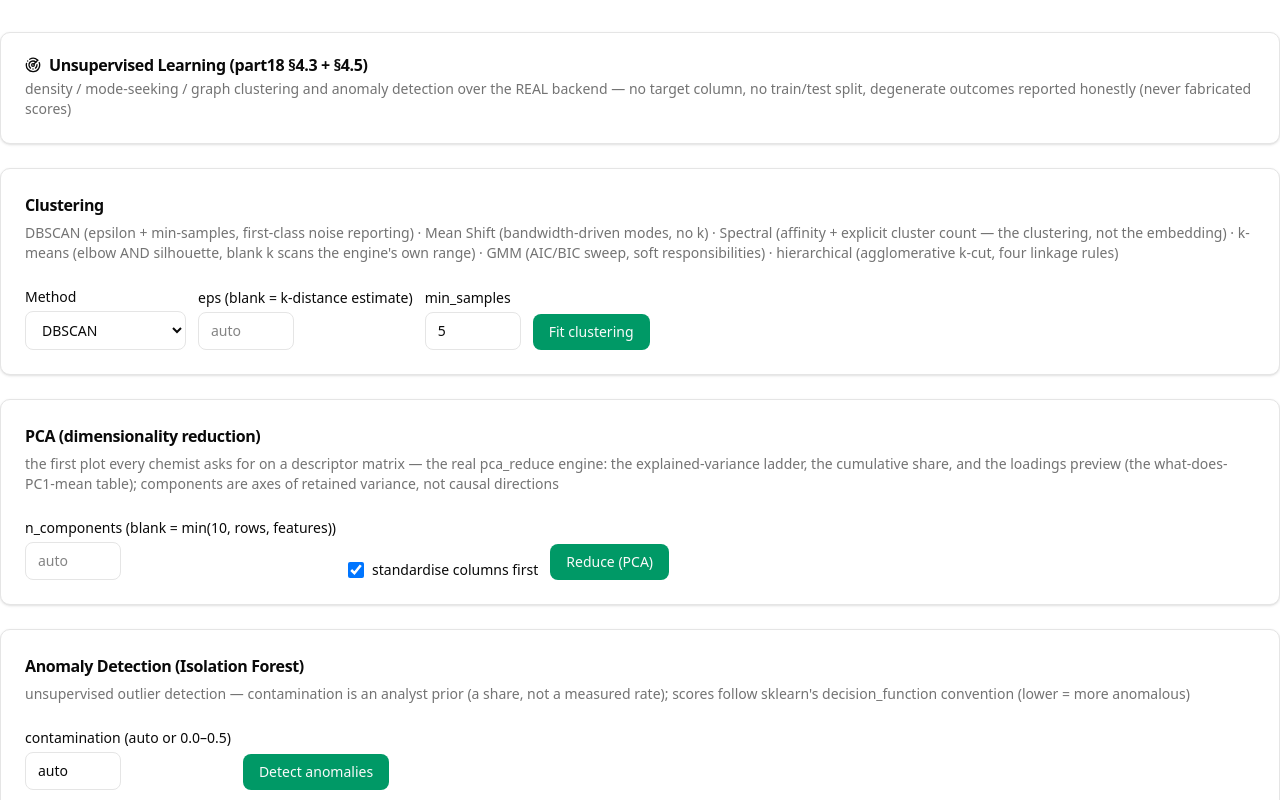
the ML-4 unsupervised families (kmeans / gmm / hierarchical + the pca sibling) › POSTs hierarchical with the linkage select and renders the merge-height line
Select "Hierarchical" in the dropdown named "the clustering method" at (106, 330), box [25, 311, 186, 350]
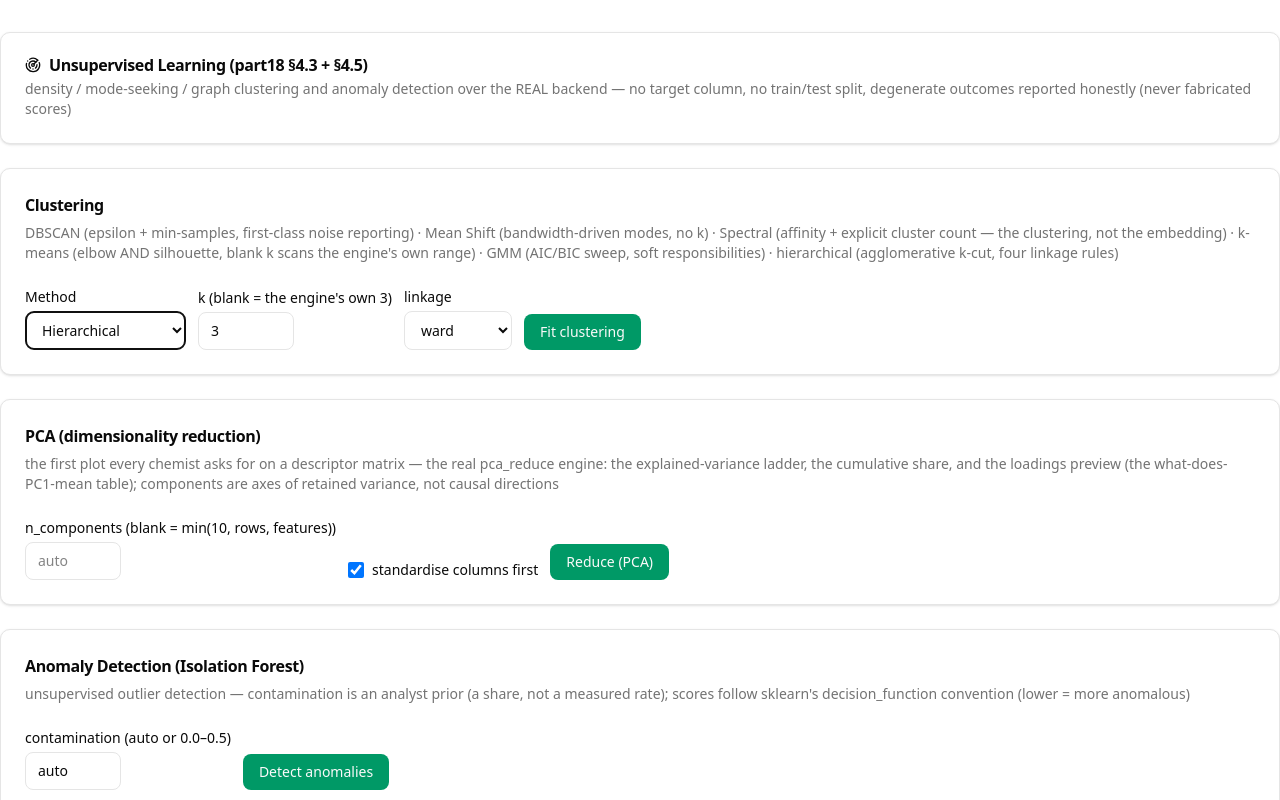
Click the button "Fit clustering" at (582, 332), box [524, 314, 641, 350]
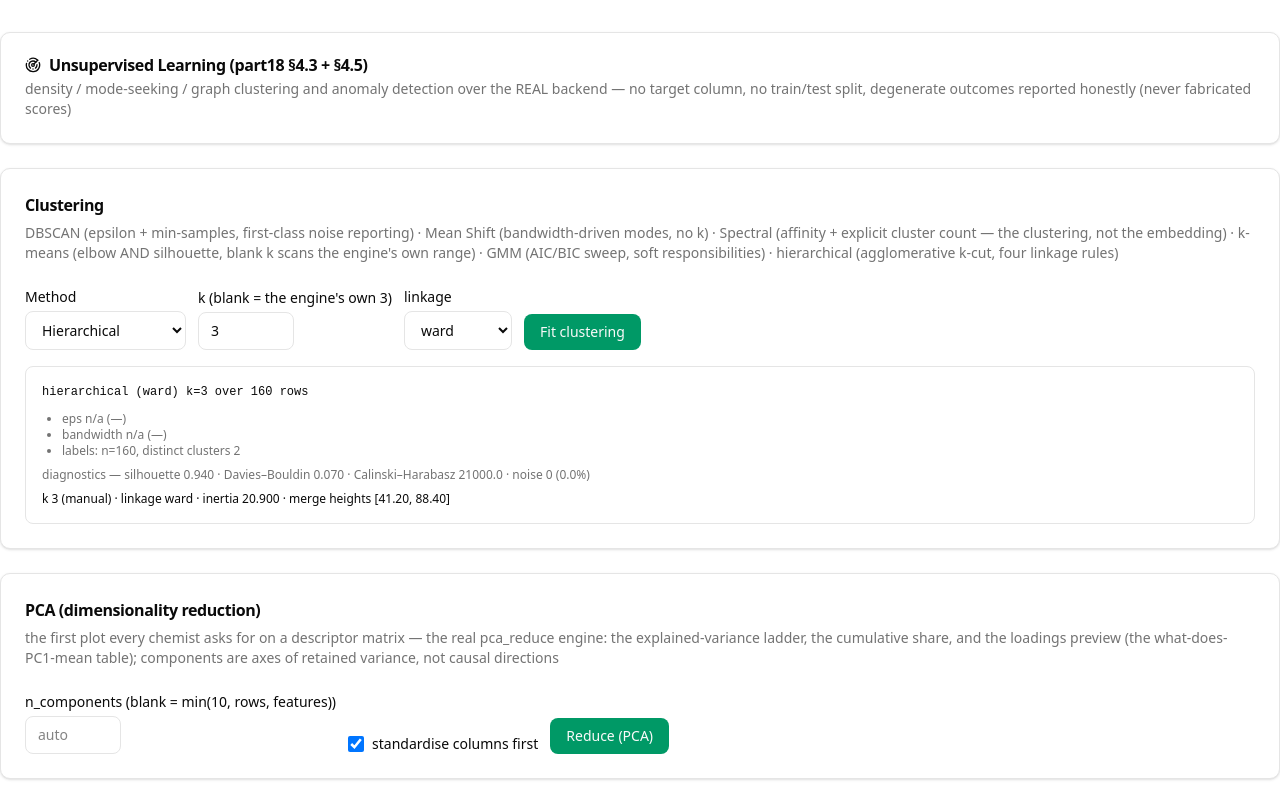
Expected: the text "linkage ward · inertia 20.900" is shown, [42, 490, 450, 506]
Expected: the text "41.20, 88.40" is shown, [378, 490, 446, 506]
